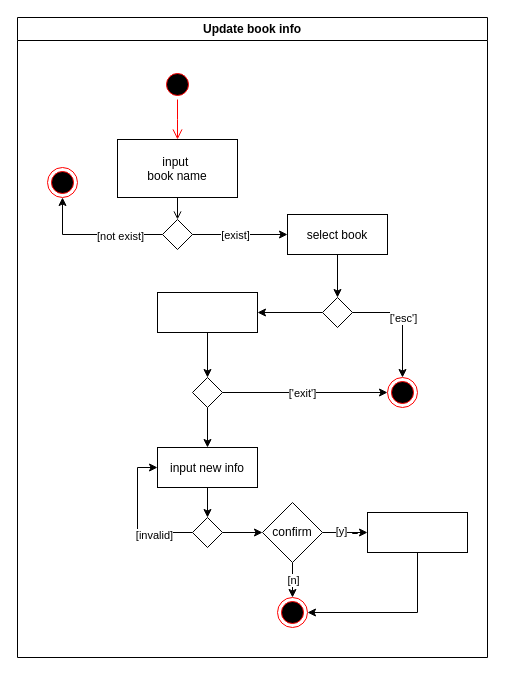
Image size: 505x675. Some labels were removed from this diagram. Each missing label, with the box of its shape:
select info to update: (156, 292, 258, 332)
update info: (366, 512, 468, 552)
